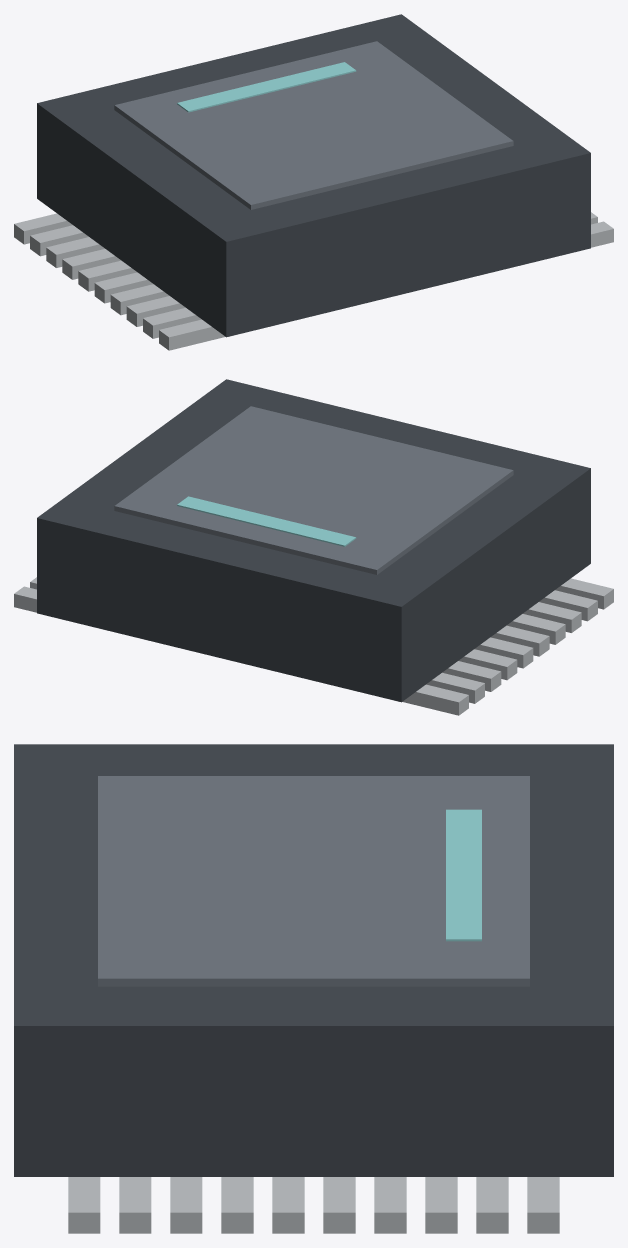
The picture shows the model from 3 angles, top to bottom: view 1: azimuth 30°, elevation 25°; view 2: azimuth 150°, elevation 25°; view 3: azimuth 270°, elevation 25°; orthographic projection. The views are drawn at different scales.
Visible parts, largest first — view 1: 000_Black_Epoxy__PSMAT__Black_Epoxy, 001_Silicon_Die__PSMAT__Silicon_Die, 002_Silkscreen_Cyan__PSMAT__Silkscreen_Cyan, 022_Solder_Tin__PSMAT__Solder_Tin, 018_Solder_Tin__PSMAT__Solder_Tin, 012_Solder_Tin__PSMAT__Solder_Tin, 014_Solder_Tin__PSMAT__Solder_Tin, 016_Solder_Tin__PSMAT__Solder_Tin, 010_Solder_Tin__PSMAT__Solder_Tin, 006_Solder_Tin__PSMAT__Solder_Tin, 008_Solder_Tin__PSMAT__Solder_Tin, 004_Solder_Tin__PSMAT__Solder_Tin (+2 smaller); view 2: 000_Black_Epoxy__PSMAT__Black_Epoxy, 001_Silicon_Die__PSMAT__Silicon_Die, 002_Silkscreen_Cyan__PSMAT__Silkscreen_Cyan, 004_Solder_Tin__PSMAT__Solder_Tin, 008_Solder_Tin__PSMAT__Solder_Tin, 010_Solder_Tin__PSMAT__Solder_Tin, 012_Solder_Tin__PSMAT__Solder_Tin, 014_Solder_Tin__PSMAT__Solder_Tin, 016_Solder_Tin__PSMAT__Solder_Tin, 020_Solder_Tin__PSMAT__Solder_Tin, 018_Solder_Tin__PSMAT__Solder_Tin, 022_Solder_Tin__PSMAT__Solder_Tin (+2 smaller); view 3: 000_Black_Epoxy__PSMAT__Black_Epoxy, 001_Silicon_Die__PSMAT__Silicon_Die, 002_Silkscreen_Cyan__PSMAT__Silkscreen_Cyan, 003_Solder_Tin__PSMAT__Solder_Tin, 005_Solder_Tin__PSMAT__Solder_Tin, 007_Solder_Tin__PSMAT__Solder_Tin, 009_Solder_Tin__PSMAT__Solder_Tin, 011_Solder_Tin__PSMAT__Solder_Tin, 013_Solder_Tin__PSMAT__Solder_Tin, 015_Solder_Tin__PSMAT__Solder_Tin, 017_Solder_Tin__PSMAT__Solder_Tin, 019_Solder_Tin__PSMAT__Solder_Tin (+1 smaller).
Boxes of the visible parts, x1,y1,x2,y2 form: 000_Black_Epoxy__PSMAT__Black_Epoxy: (37,14,590,337); 001_Silicon_Die__PSMAT__Silicon_Die: (114,41,513,209); 002_Silkscreen_Cyan__PSMAT__Silkscreen_Cyan: (177,62,356,112); 022_Solder_Tin__PSMAT__Solder_Tin: (159,319,225,350); 018_Solder_Tin__PSMAT__Solder_Tin: (126,296,185,326); 012_Solder_Tin__PSMAT__Solder_Tin: (78,260,136,291); 014_Solder_Tin__PSMAT__Solder_Tin: (94,272,153,303); 016_Solder_Tin__PSMAT__Solder_Tin: (110,284,169,315); 010_Solder_Tin__PSMAT__Solder_Tin: (62,249,120,279); 006_Solder_Tin__PSMAT__Solder_Tin: (30,225,88,256); 008_Solder_Tin__PSMAT__Solder_Tin: (46,237,104,267); 004_Solder_Tin__PSMAT__Solder_Tin: (14,213,72,244); 000_Black_Epoxy__PSMAT__Black_Epoxy: (37,379,590,702); 001_Silicon_Die__PSMAT__Silicon_Die: (114,406,513,574); 002_Silkscreen_Cyan__PSMAT__Silkscreen_Cyan: (177,496,356,546); 004_Solder_Tin__PSMAT__Solder_Tin: (402,684,468,715); 008_Solder_Tin__PSMAT__Solder_Tin: (442,661,501,691); 010_Solder_Tin__PSMAT__Solder_Tin: (458,649,517,680); 012_Solder_Tin__PSMAT__Solder_Tin: (474,637,533,668); 014_Solder_Tin__PSMAT__Solder_Tin: (491,625,549,656); 016_Solder_Tin__PSMAT__Solder_Tin: (507,614,565,644); 020_Solder_Tin__PSMAT__Solder_Tin: (539,590,597,621); 018_Solder_Tin__PSMAT__Solder_Tin: (523,602,581,632); 022_Solder_Tin__PSMAT__Solder_Tin: (555,578,613,609); 000_Black_Epoxy__PSMAT__Black_Epoxy: (14,744,613,1176); 001_Silicon_Die__PSMAT__Silicon_Die: (98,776,529,986); 002_Silkscreen_Cyan__PSMAT__Silkscreen_Cyan: (446,809,481,941); 003_Solder_Tin__PSMAT__Solder_Tin: (527,1177,559,1233); 005_Solder_Tin__PSMAT__Solder_Tin: (476,1177,508,1233); 007_Solder_Tin__PSMAT__Solder_Tin: (425,1177,457,1233); 009_Solder_Tin__PSMAT__Solder_Tin: (374,1177,406,1233); 011_Solder_Tin__PSMAT__Solder_Tin: (323,1177,355,1233); 013_Solder_Tin__PSMAT__Solder_Tin: (272,1177,304,1233); 015_Solder_Tin__PSMAT__Solder_Tin: (221,1177,253,1233); 017_Solder_Tin__PSMAT__Solder_Tin: (170,1177,202,1233); 019_Solder_Tin__PSMAT__Solder_Tin: (119,1177,151,1233).
Size of the model in its own units: 0.0122 by 0.0031 by 0.009.
